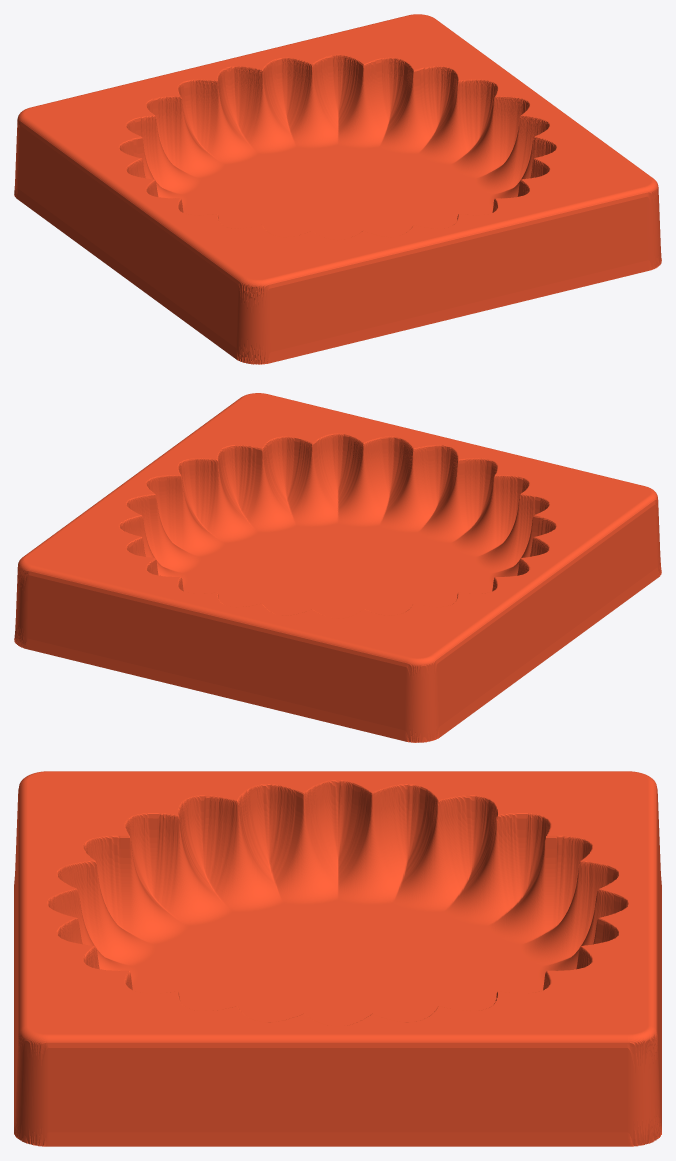
File: mold.glb
3 renders of one model, top to bottom at view 1: azimuth 30°, elevation 25°; view 2: azimuth 150°, elevation 25°; view 3: azimuth 270°, elevation 25°, orthographic. The views are drawn at different scales.
Visible parts, largest first — view 1: geometry_0; view 2: geometry_0; view 3: geometry_0.
Boxes of the visible parts, x1=… form: geometry_0: x1=14, y1=14, x2=661, y2=364; geometry_0: x1=14, y1=393, x2=661, y2=742; geometry_0: x1=14, y1=771, x2=661, y2=1146.
Bounding box in the file's own units: 0.1709 × 0.031 × 0.1709.
